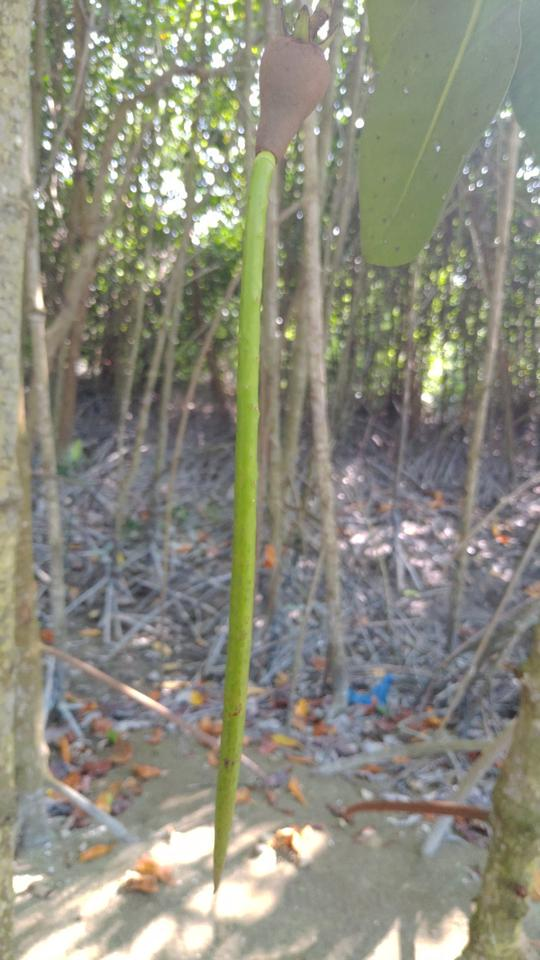setengah matang: (197, 6, 350, 903)
